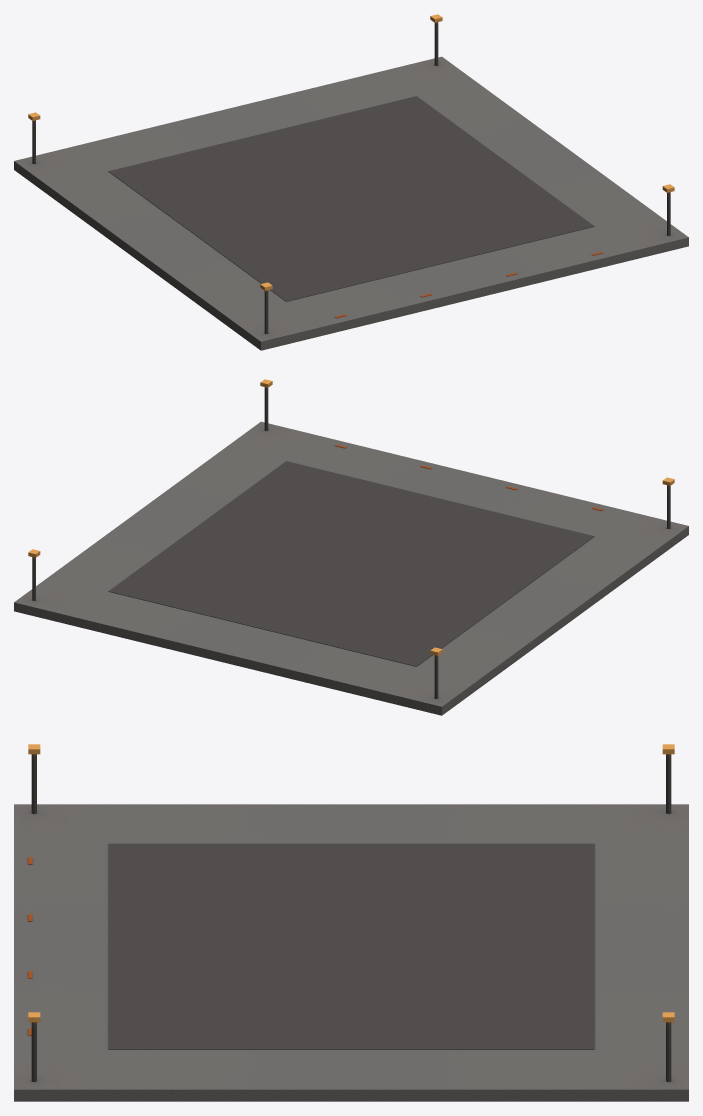
File: B_cargo_pad.glb
The picture shows the model from 3 angles, top to bottom: view 1: azimuth 30°, elevation 25°; view 2: azimuth 150°, elevation 25°; view 3: azimuth 270°, elevation 25°; orthographic projection. The views are drawn at different scales.
Visible parts, largest first — view 1: Cube; view 2: Cube; view 3: Cube.
Part boxes in pixels (left/top/right/bottom): Cube: left=14, top=14, right=688, bottom=350; Cube: left=14, top=379, right=688, bottom=715; Cube: left=14, top=744, right=688, bottom=1101.
Size of the model in its own units: 50 by 6.4 by 50.
1 material, 1 textured.
